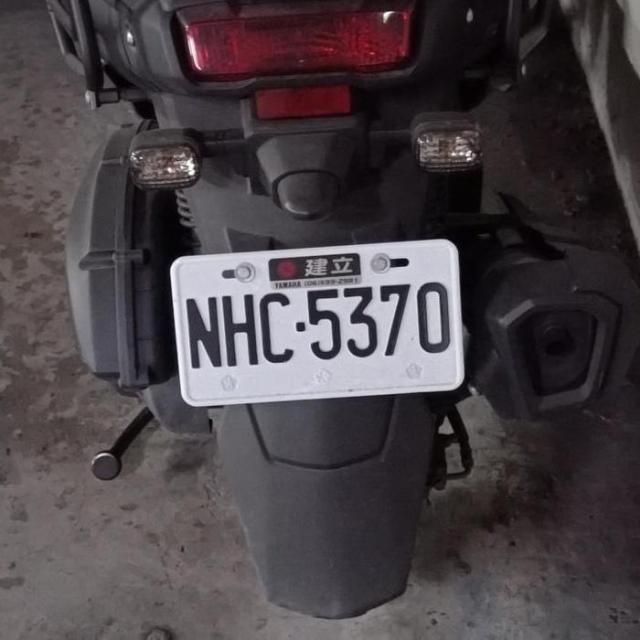W: (164, 235, 471, 409)
